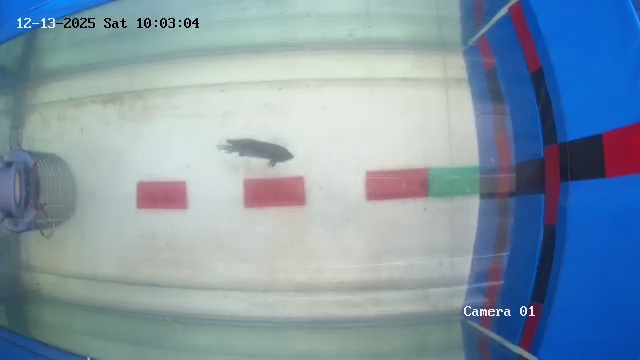fish: (217, 130, 296, 173)
